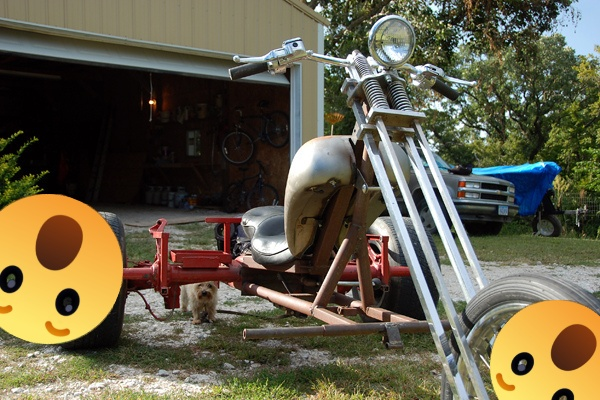wow: (0, 194, 123, 344), (490, 300, 600, 400)
